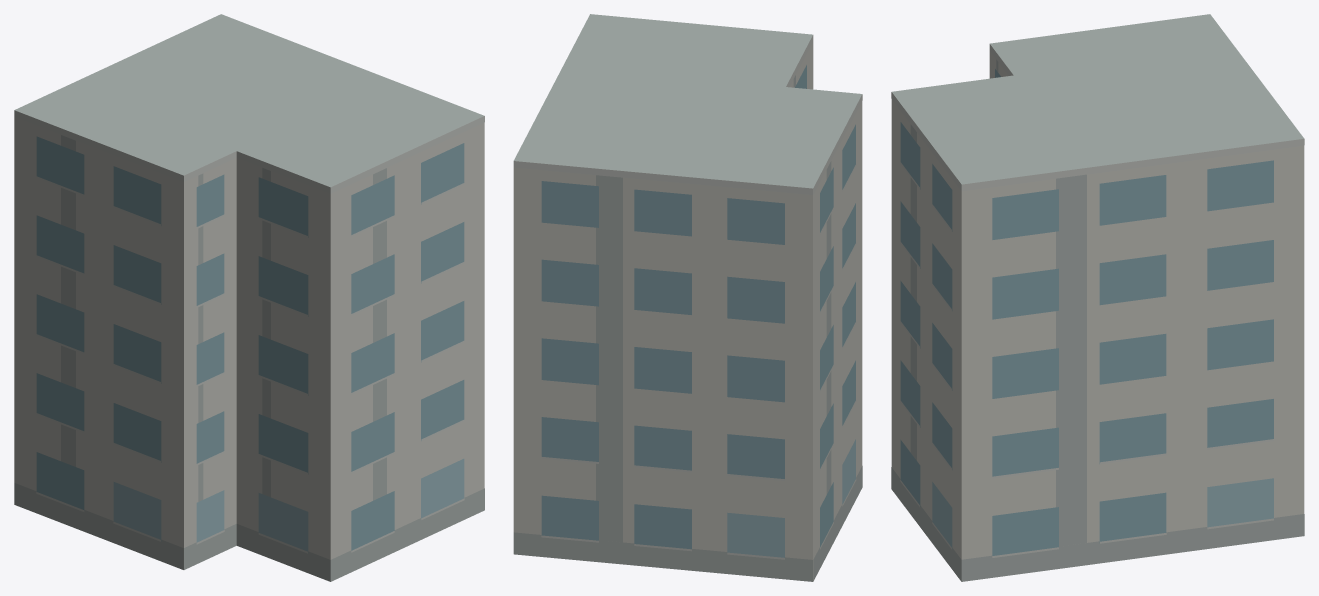
The model's file is survey-upis-32605720.glb.
3 views of the same model, side by side, from view 1: azimuth 30°, elevation 25°; view 2: azimuth 150°, elevation 25°; view 3: azimuth 270°, elevation 25° (orthographic).
Parts seen in each view (by area): view 1: survey-upis-32605720.tmp; view 2: survey-upis-32605720.tmp; view 3: survey-upis-32605720.tmp.
Part boxes in pixels (left/top/right/bottom): survey-upis-32605720.tmp: left=14, top=14, right=484, bottom=581; survey-upis-32605720.tmp: left=513, top=14, right=862, bottom=581; survey-upis-32605720.tmp: left=891, top=14, right=1304, bottom=581.
Bounding box in the file's own units: 13.27 × 14.4 × 13.57.
